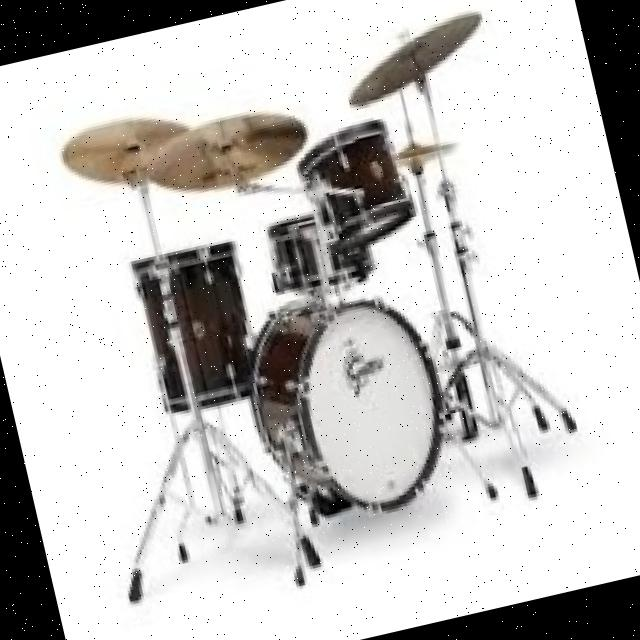drums: (21, 7, 592, 596)
